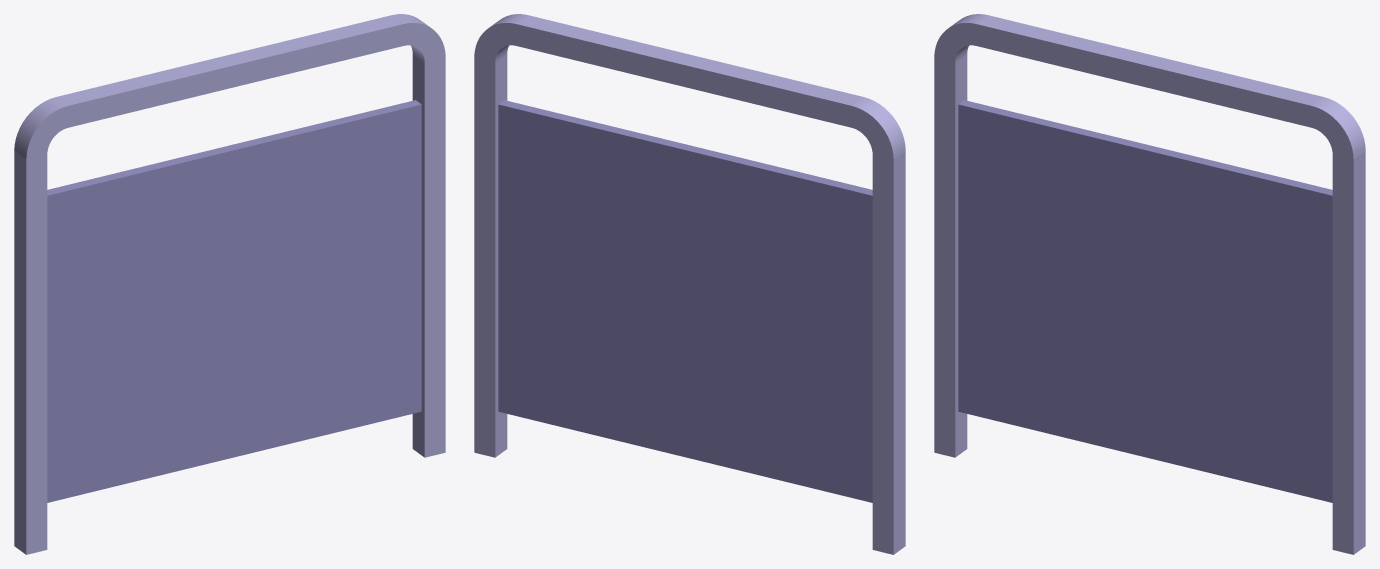
File: FencesSmall.fbx
3 views of the same model, side by side, from view 1: azimuth 30°, elevation 25°; view 2: azimuth 150°, elevation 25°; view 3: azimuth 330°, elevation 25° (orthographic).
Visible parts, largest first — view 1: fence_modernRoundedHigh; view 2: fence_modernRoundedHigh; view 3: fence_modernRoundedHigh.
Boxes of the visible parts, bbox=[...] form: fence_modernRoundedHigh: bbox=[14, 14, 445, 554]; fence_modernRoundedHigh: bbox=[474, 14, 905, 554]; fence_modernRoundedHigh: bbox=[934, 14, 1365, 554].
Size of the model in its own units: 10 by 10 by 0.5.
